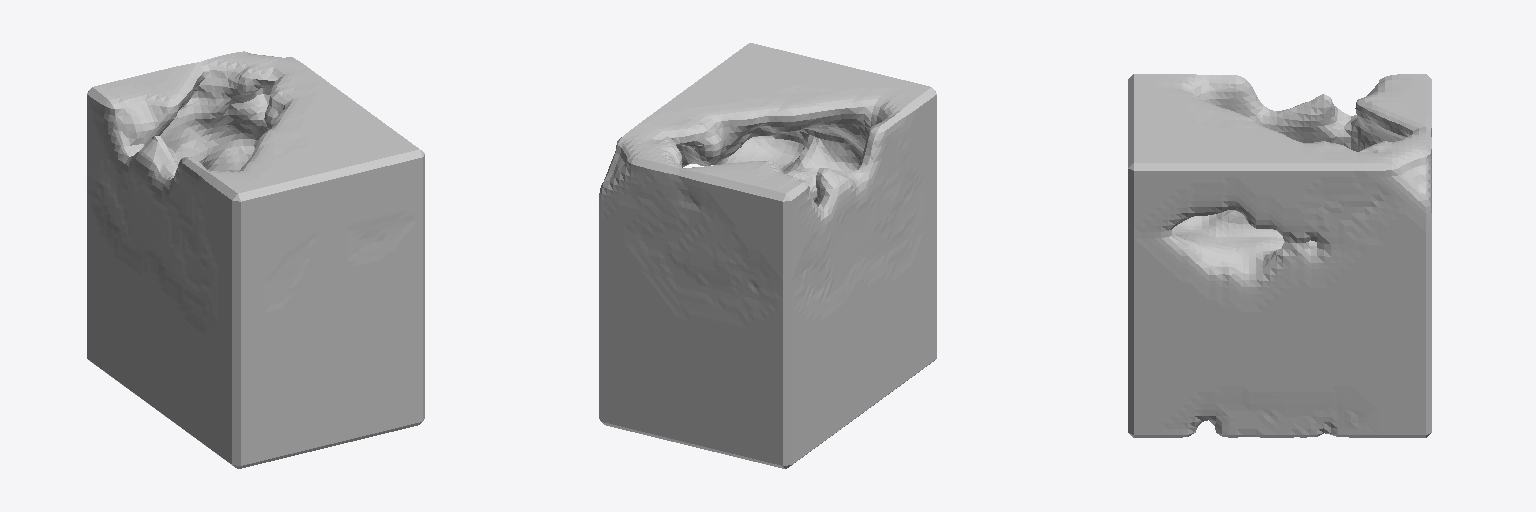
3 views of the same model, side by side, from view 1: azimuth 30°, elevation 25°; view 2: azimuth 150°, elevation 25°; view 3: azimuth 270°, elevation 25° (orthographic).
Visible parts, largest first — view 1: Liquid_Domain; view 2: Liquid_Domain; view 3: Liquid_Domain.
Part boxes in pixels (bbox=[...]): Liquid_Domain: bbox=[87, 51, 424, 468]; Liquid_Domain: bbox=[599, 43, 936, 468]; Liquid_Domain: bbox=[1128, 74, 1431, 437].
Size of the model in its own units: 79.09 by 108 by 108.